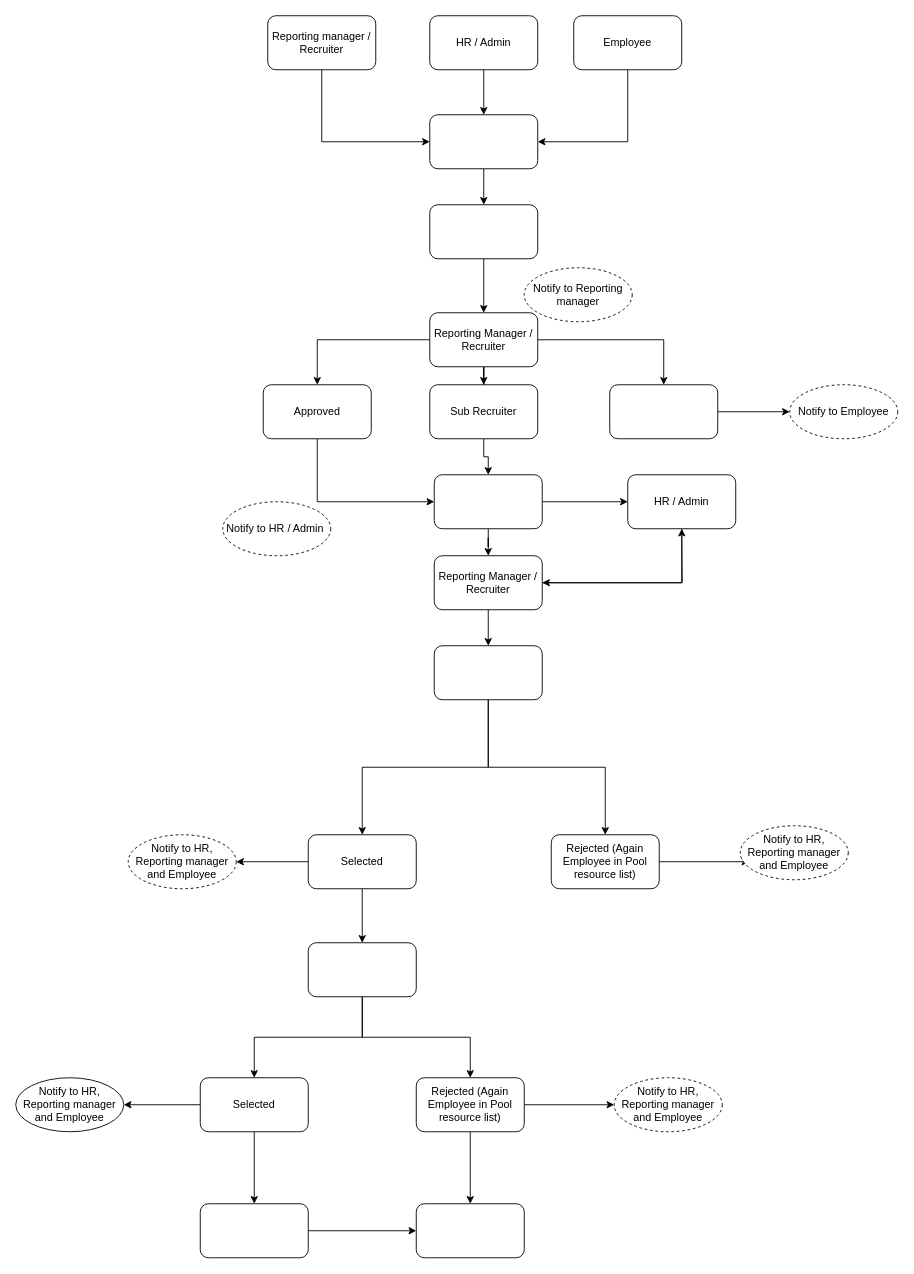
This 914x1274 diagram has some shape labels left out. The centre of each missing label's shape, as x and y in pixels:
"Client Interview Schedule" belongs at point 361,969.
"HR can set the employee status to allocated project" belongs at point 253,1230.
"Interview Question feedback given by Employee" belongs at point 469,1230.
"Pool Resource List" belongs at point 487,501.
"Registration" belongs at point 483,141.
"Rejected" belongs at point 663,411.
"Reporting Manager / Recruiter can contact them for MOC interview" belongs at point 487,672.
"Upload the document only for employee" belongs at point 483,231.
